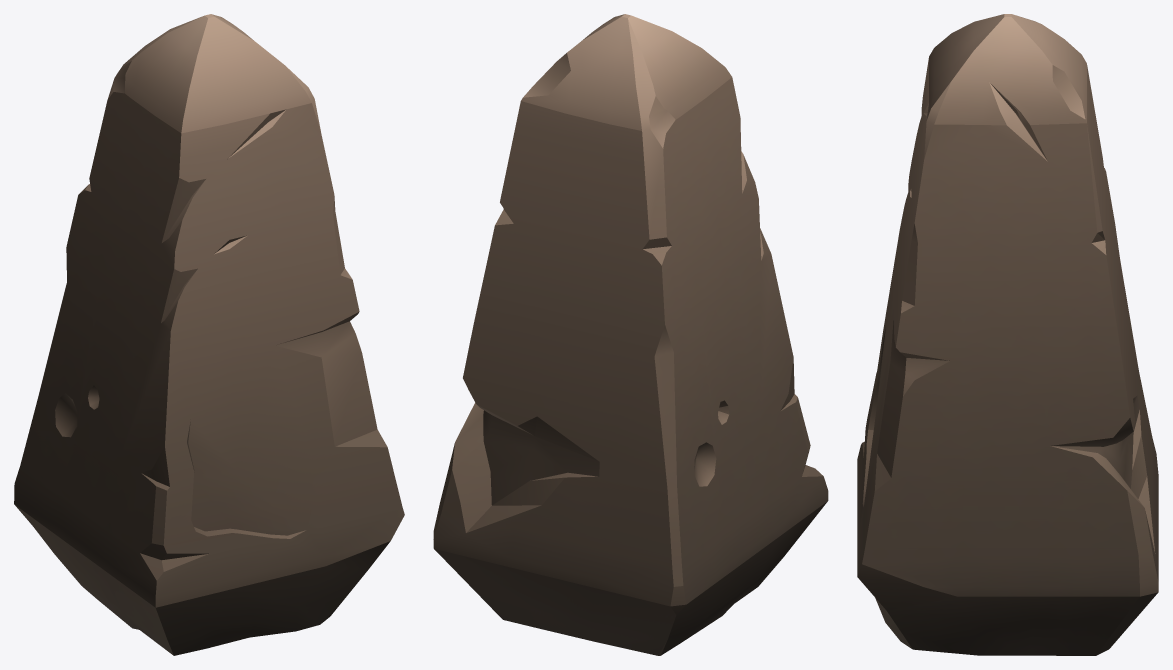
The model's file is Obelisk_1A.fbx.
3 views of the same model, side by side, from view 1: azimuth 30°, elevation 25°; view 2: azimuth 150°, elevation 25°; view 3: azimuth 270°, elevation 25° (orthographic). The views are drawn at different scales.
Parts seen in each view (by area): view 1: Obelisk_1A; view 2: Obelisk_1A; view 3: Obelisk_1A.
Boxes of the visible parts, x1,y1,x2,y2 form: Obelisk_1A: [14, 14, 404, 655]; Obelisk_1A: [433, 14, 828, 655]; Obelisk_1A: [857, 14, 1158, 655].
Size of the model in its own units: 187 by 408 by 187.
